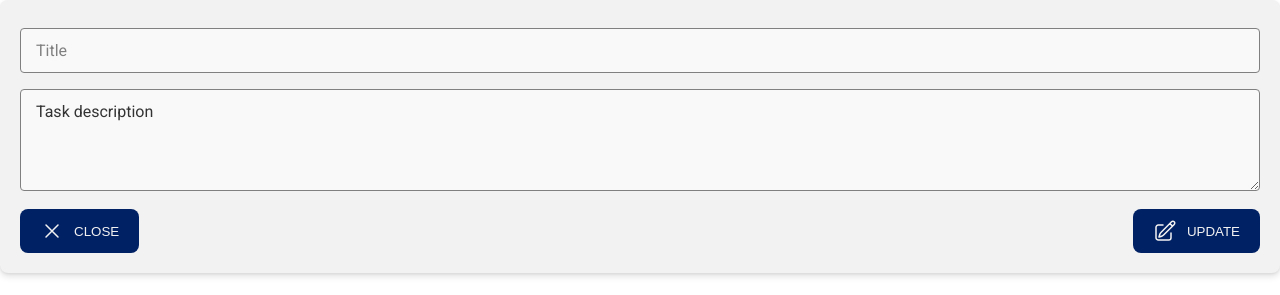
Test: TaskForm › shows error when title is empty
Click the button "UPDATE" at (1196, 231), box [1133,209,1260,253]
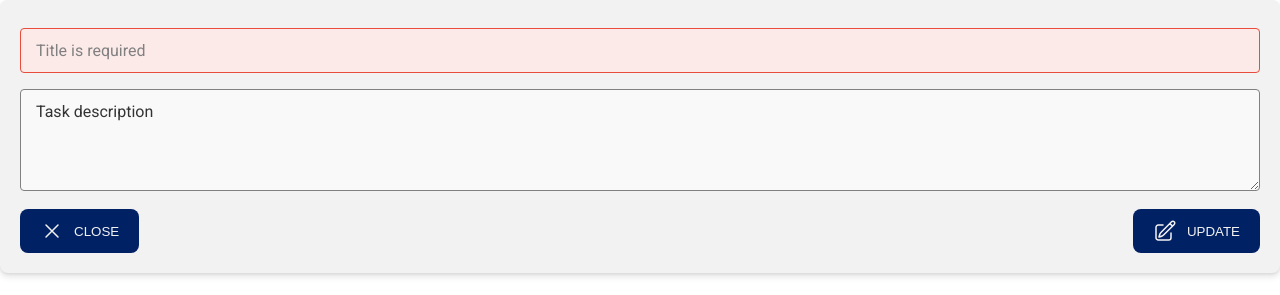
Check: the field with placeholder "Title is required" is shown, box [20,28,1260,73]
